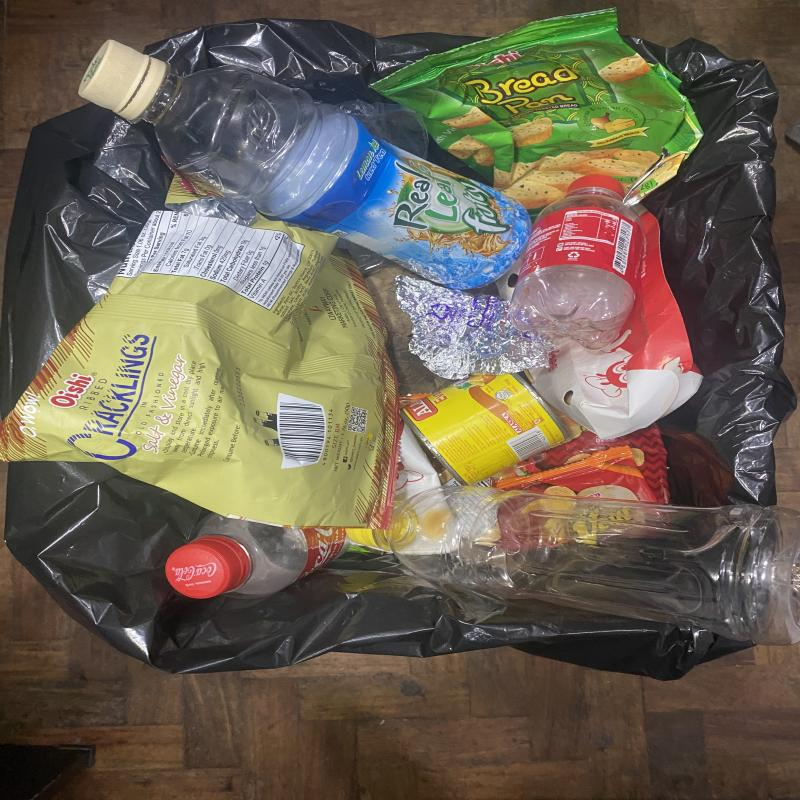aluminum: (401, 375, 569, 487), (398, 274, 559, 381)
cardboard: (524, 196, 705, 442)
food wrapper: (0, 177, 406, 530), (369, 8, 705, 209), (479, 427, 668, 503)
plastic bottle: (78, 39, 533, 291), (341, 482, 800, 645), (511, 174, 644, 349), (163, 511, 351, 599)
